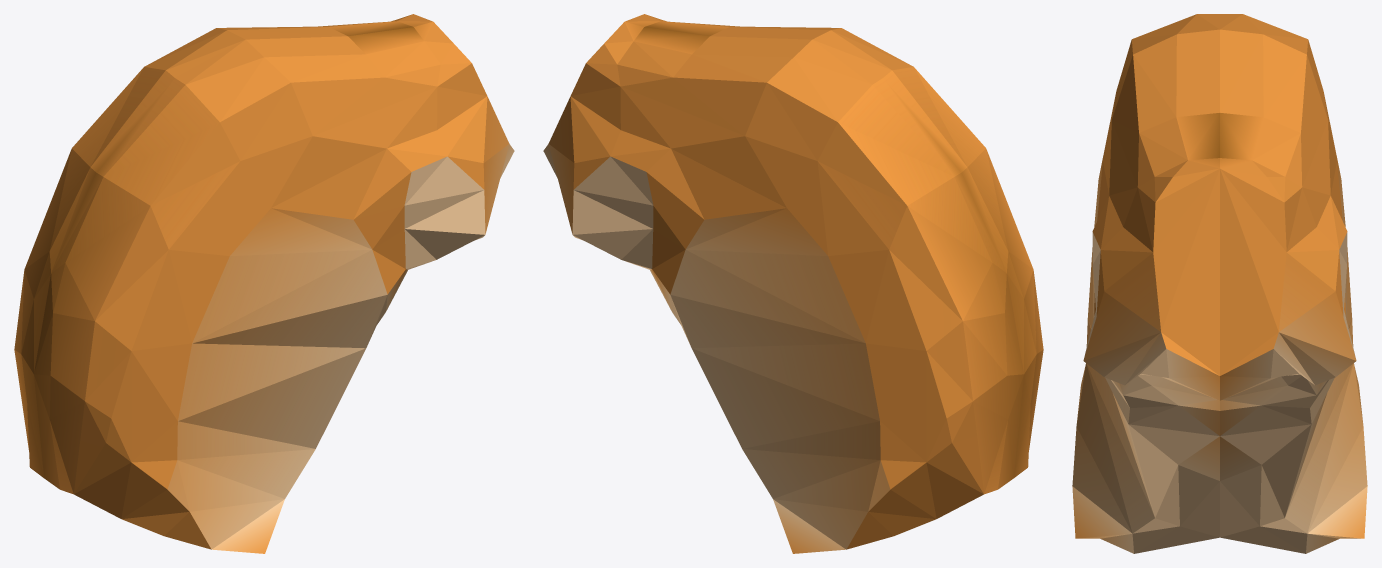
File: kangaroo_body.obj
The picture shows the model from 3 angles, left to right: view 1: azimuth 30°, elevation 25°; view 2: azimuth 150°, elevation 25°; view 3: azimuth 270°, elevation 25°; orthographic projection. The views are drawn at different scales.
Parts seen in each view (by area): view 1: Plane; view 2: Plane; view 3: Plane.
Part boxes in pixels (left/top/right/bottom): Plane: left=14, top=14, right=514, bottom=553; Plane: left=543, top=14, right=1043, bottom=553; Plane: left=1072, top=14, right=1367, bottom=553.
Bounding box in the file's own units: 0.9649 × 0.9484 × 0.4631.
